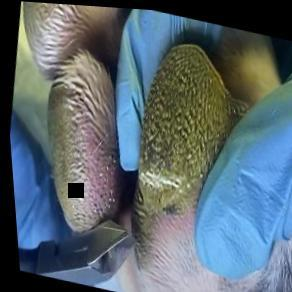keratosis: (119, 28, 249, 230)
